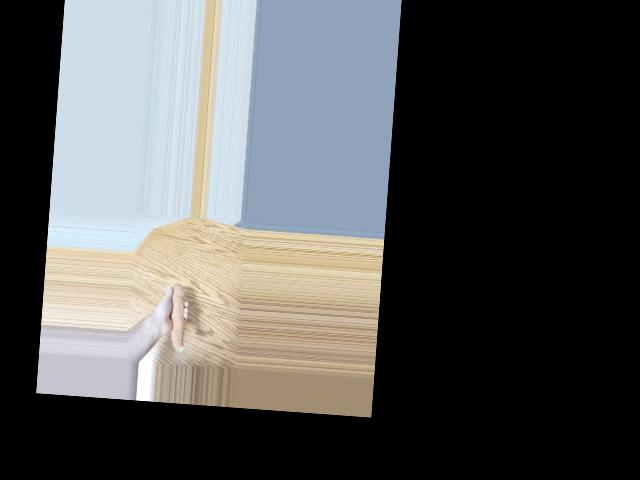sweet_potato: (162, 285, 187, 353)
